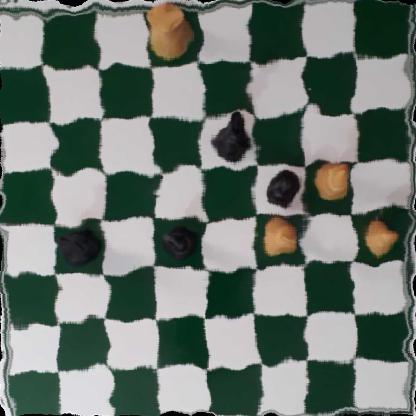black-king: (208, 114, 253, 162)
black-pawn: (263, 168, 302, 210), (164, 224, 205, 260)
black-rook: (55, 221, 97, 268)
white-bishop: (309, 159, 355, 207)
white-king: (260, 210, 302, 263)
white-pawn: (355, 212, 400, 253)
white-rook: (144, 5, 191, 59)
